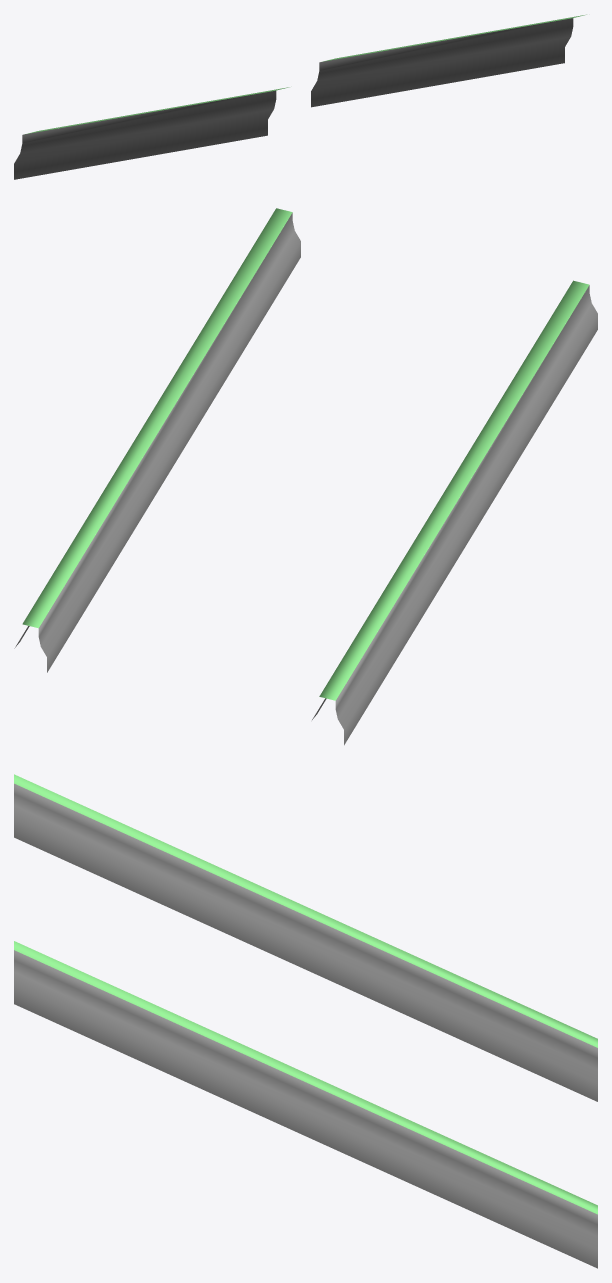
The model's file is sylentemple_side_stair.gltf.
3 renders of one model, top to bottom at view 1: azimuth 30°, elevation 25°; view 2: azimuth 150°, elevation 25°; view 3: azimuth 270°, elevation 25°, orthographic. The views are drawn at different scales.
Visible parts, largest first — view 1: sylentemple_side_stair; view 2: sylentemple_side_stair; view 3: sylentemple_side_stair.
Boxes of the visible parts, x1,y1,x2,y2 form: sylentemple_side_stair: (14, 14, 586, 179); sylentemple_side_stair: (14, 208, 597, 745); sylentemple_side_stair: (14, 774, 597, 1268).
Size of the model in its own units: 3.84 by 3.04 by 5.12.
